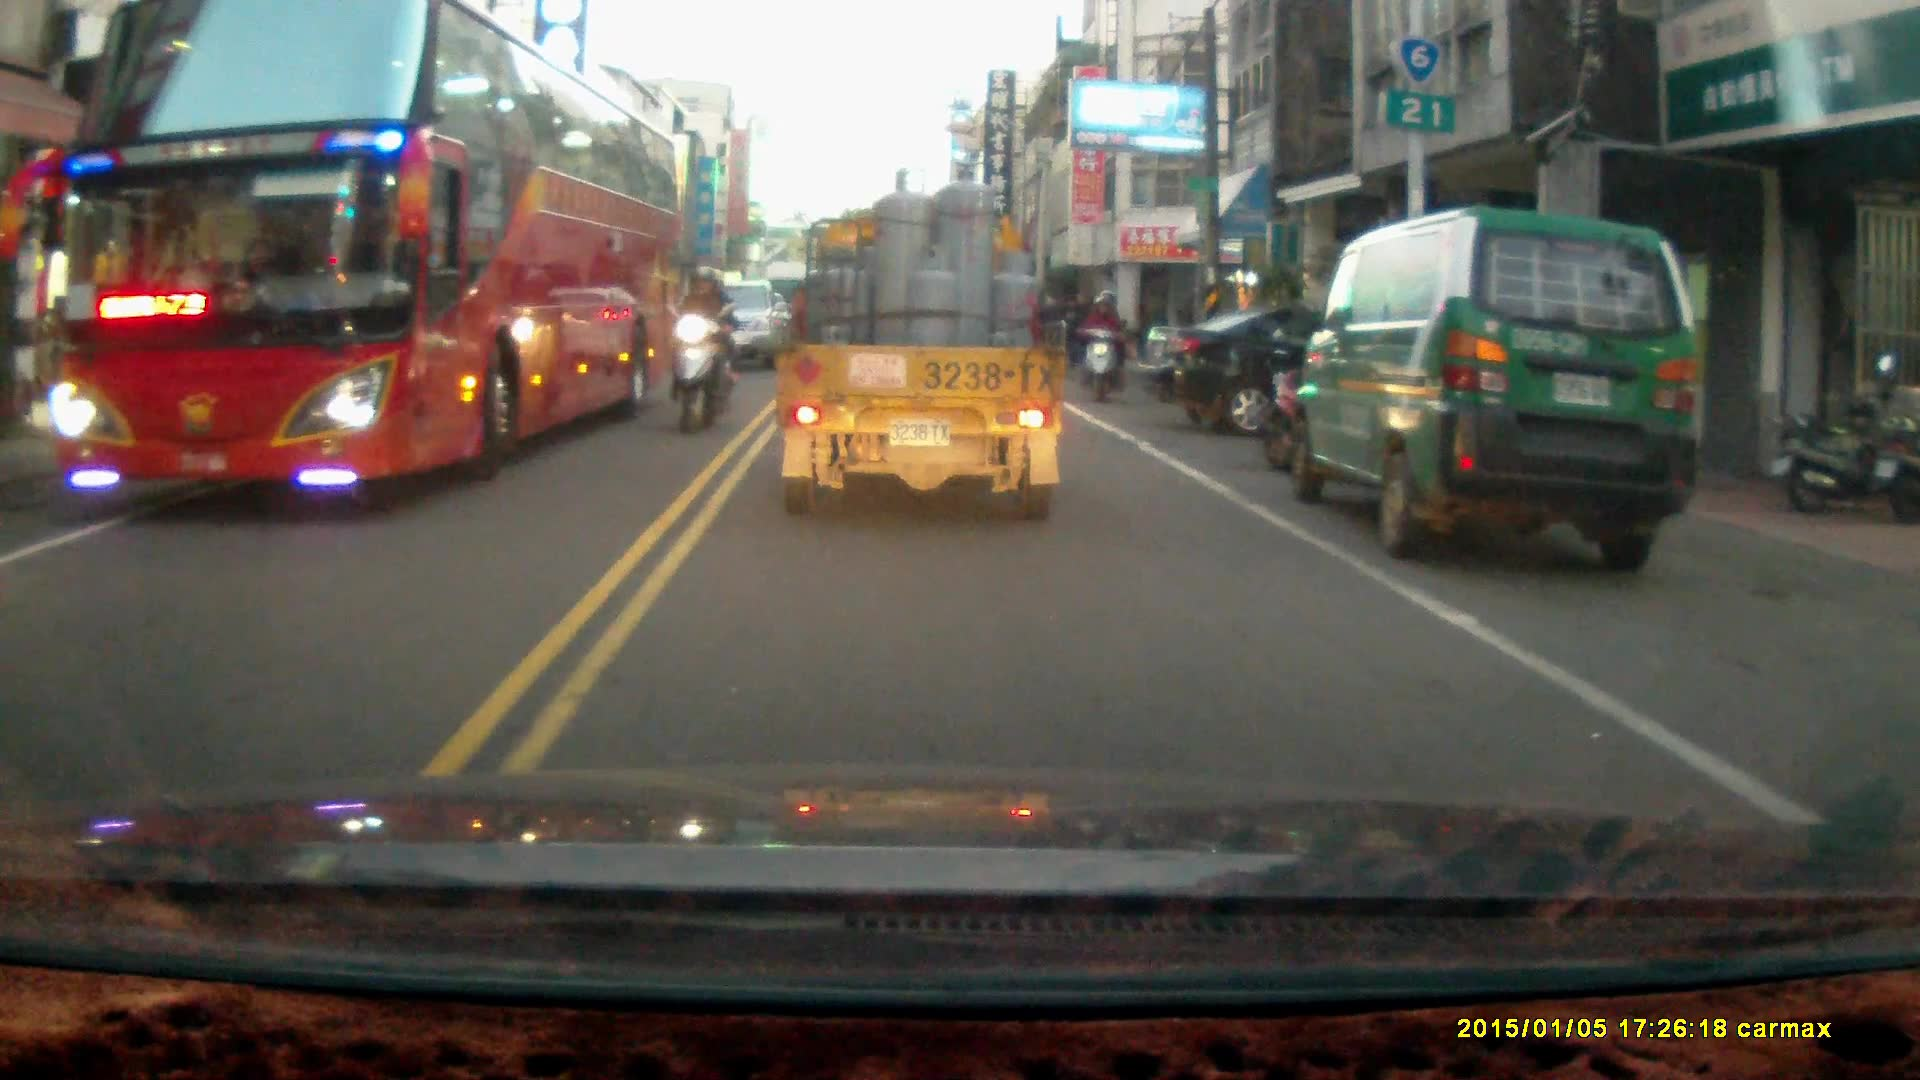rider: (660, 263, 736, 435), (1074, 288, 1127, 402)
vehicle: (36, 17, 684, 506), (1291, 200, 1703, 569), (776, 160, 1066, 525), (1144, 302, 1509, 438), (678, 277, 796, 376)
